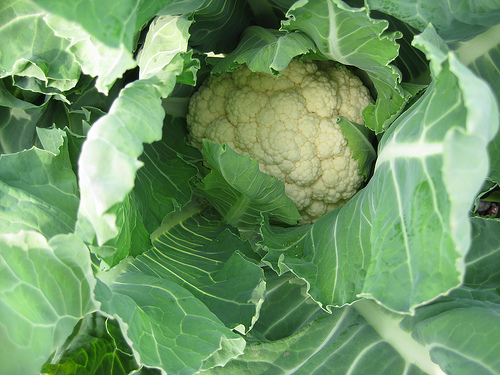cauliflower: (185, 52, 373, 222)
